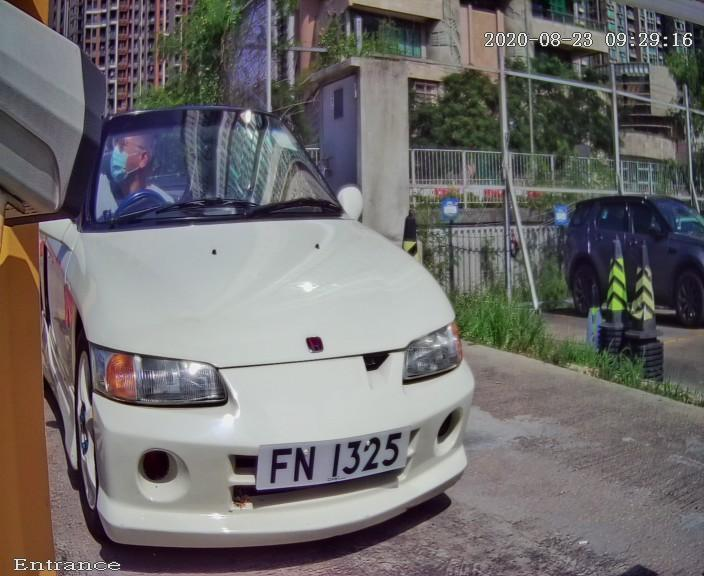Car: (1, 6, 516, 576)
License Plate: (232, 408, 432, 509)
